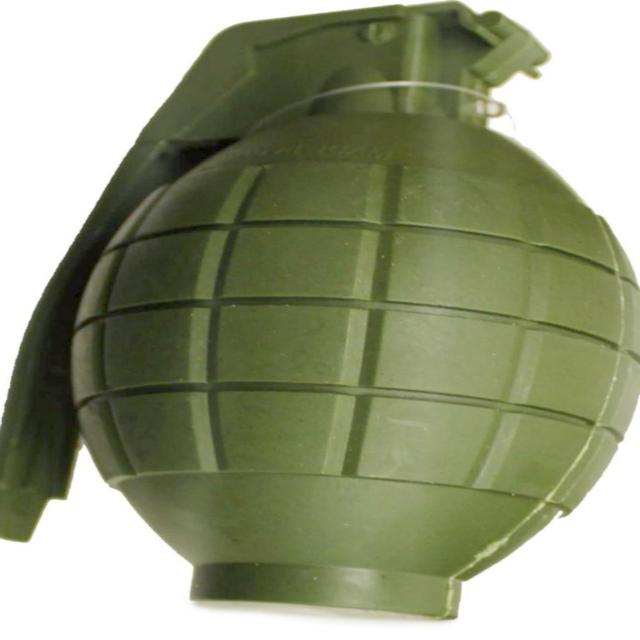grenade: (2, 2, 640, 624)
